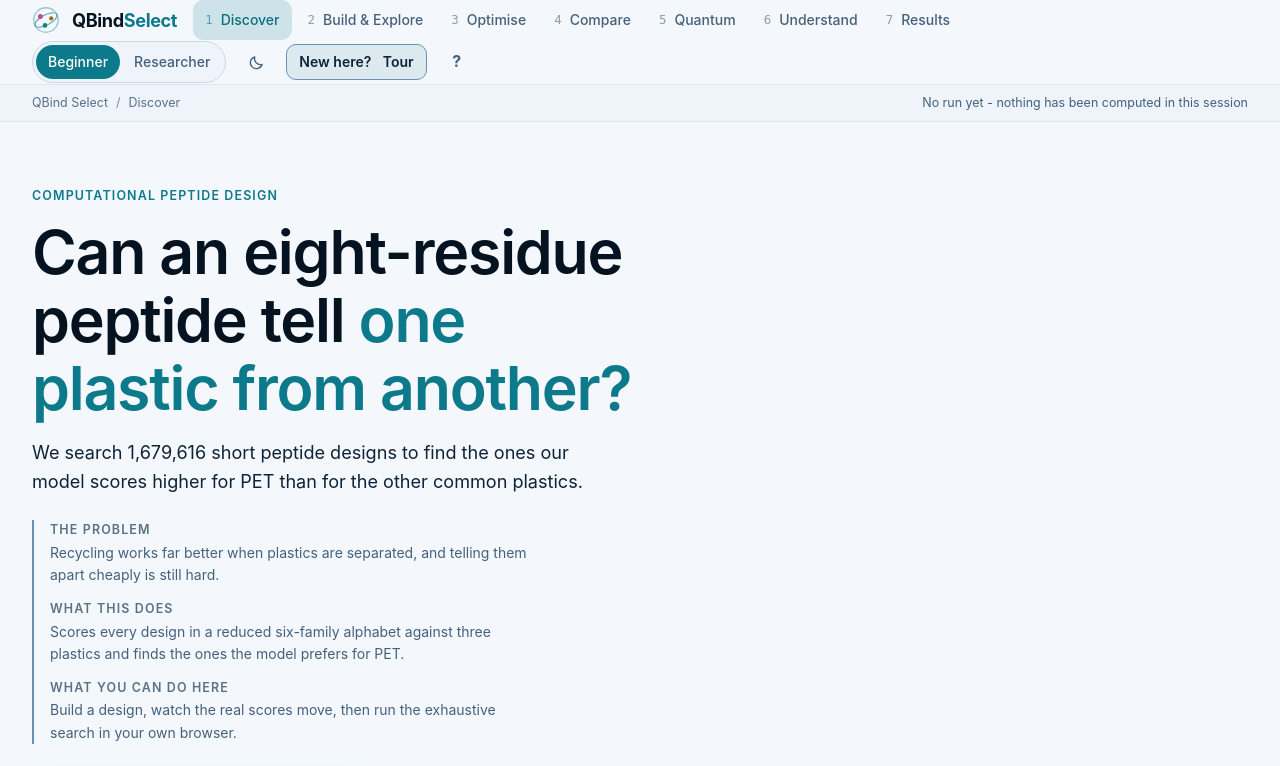
shell and navigation › navigates to quantum without crashing, before any computation exists
The image size is (1280, 766).
Check: the heading "Can an eight-residue peptide tell one plastic from another?" is shown, box [32,218,718,422]
Click the link "5 Quantum": (697, 19) [659,11,736,28]
(page scrolled)
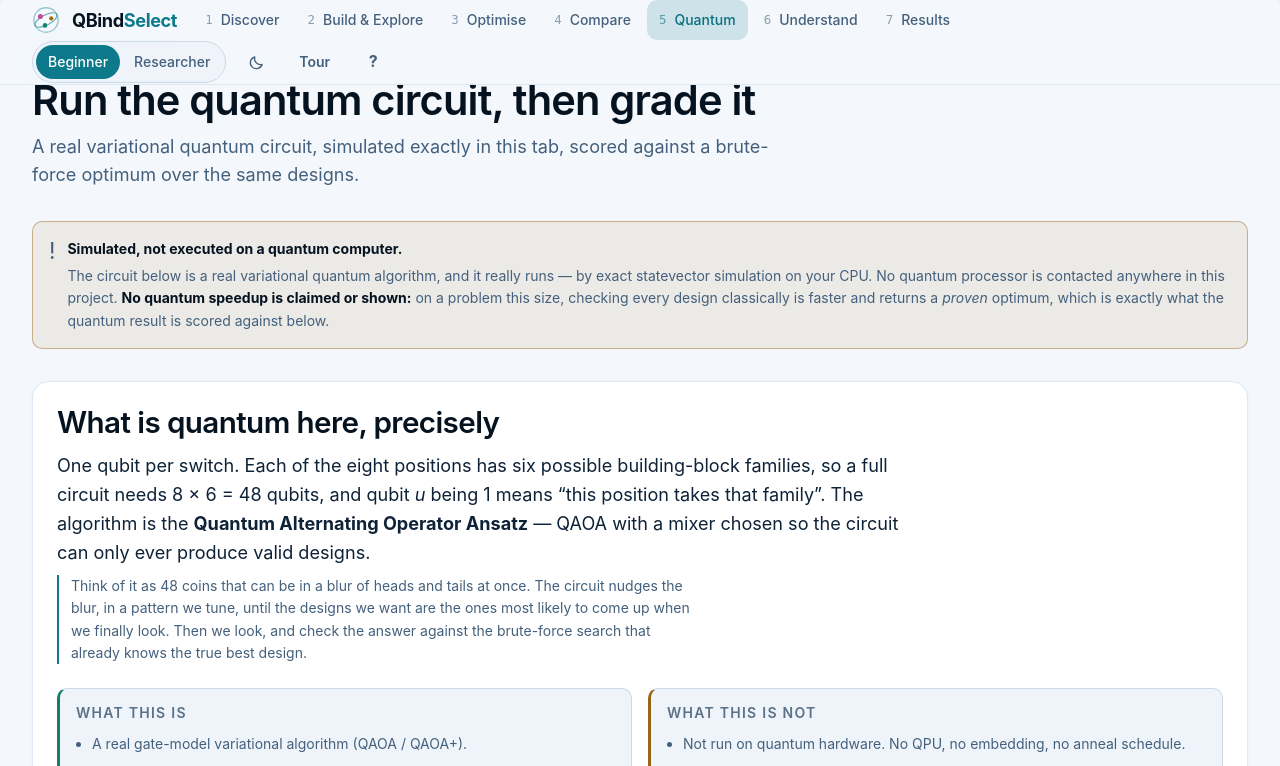
Check: the heading "Run the quantum circuit, then grade it" is shown, box [32,75,755,125]
